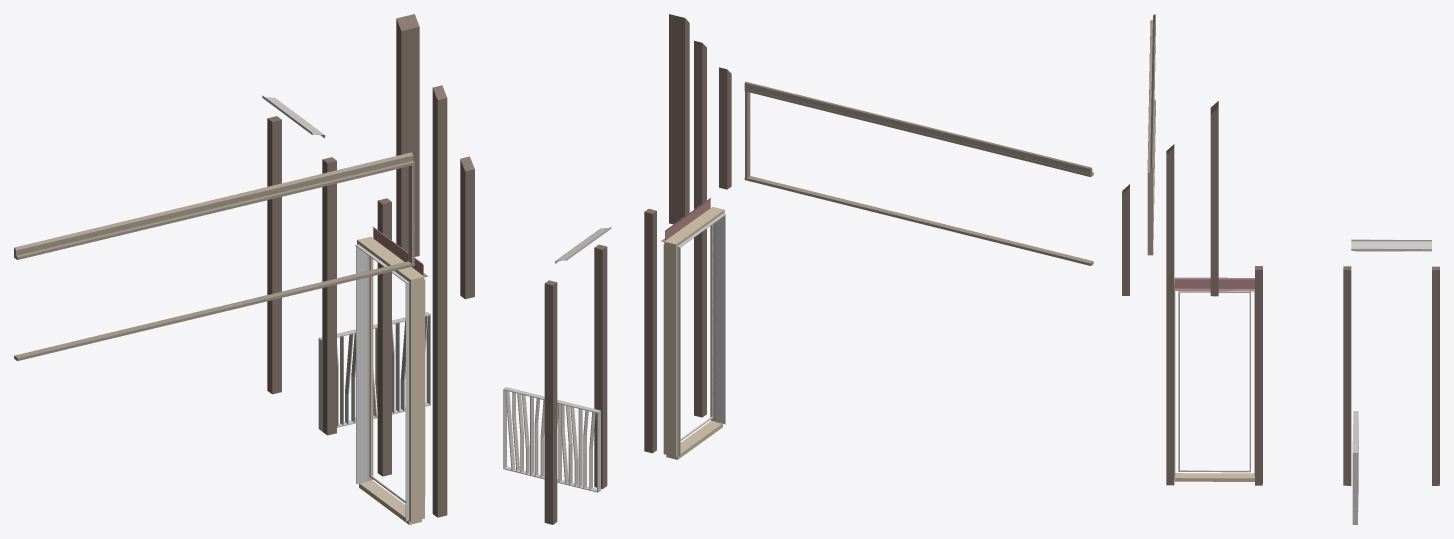
The picture shows the model from 3 angles, left to right: view 1: azimuth 30°, elevation 25°; view 2: azimuth 150°, elevation 25°; view 3: azimuth 270°, elevation 25°; orthographic projection. The views are drawn at different scales.
Bounding box in the file's own units: 6.22 × 5.3 × 3.99.
